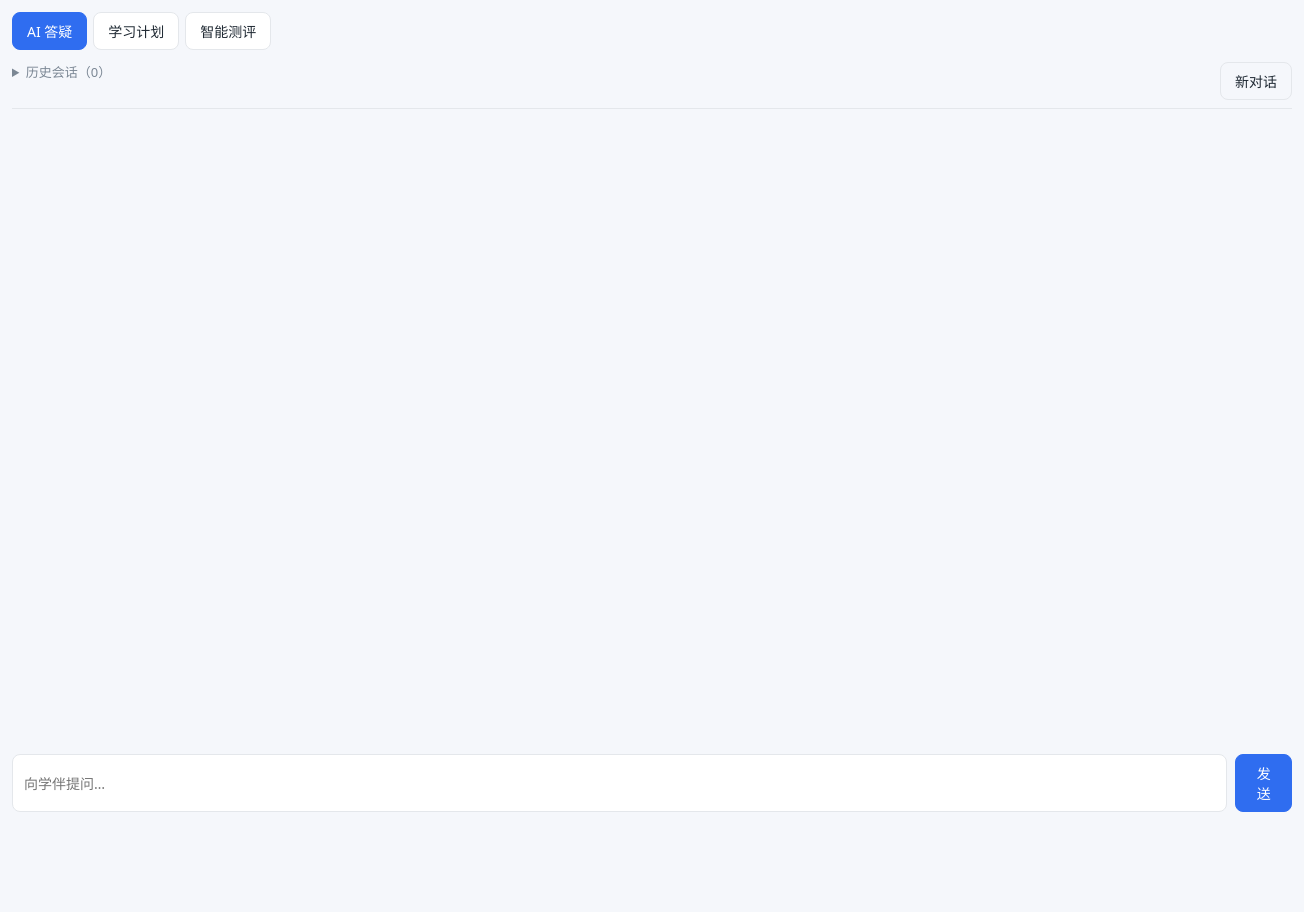
Test: Companion › handles unexpected chat promise rejections
Type "测试异常" into the field with placeholder "向学伴提问…" at (620, 783), box [12,754,1227,812]
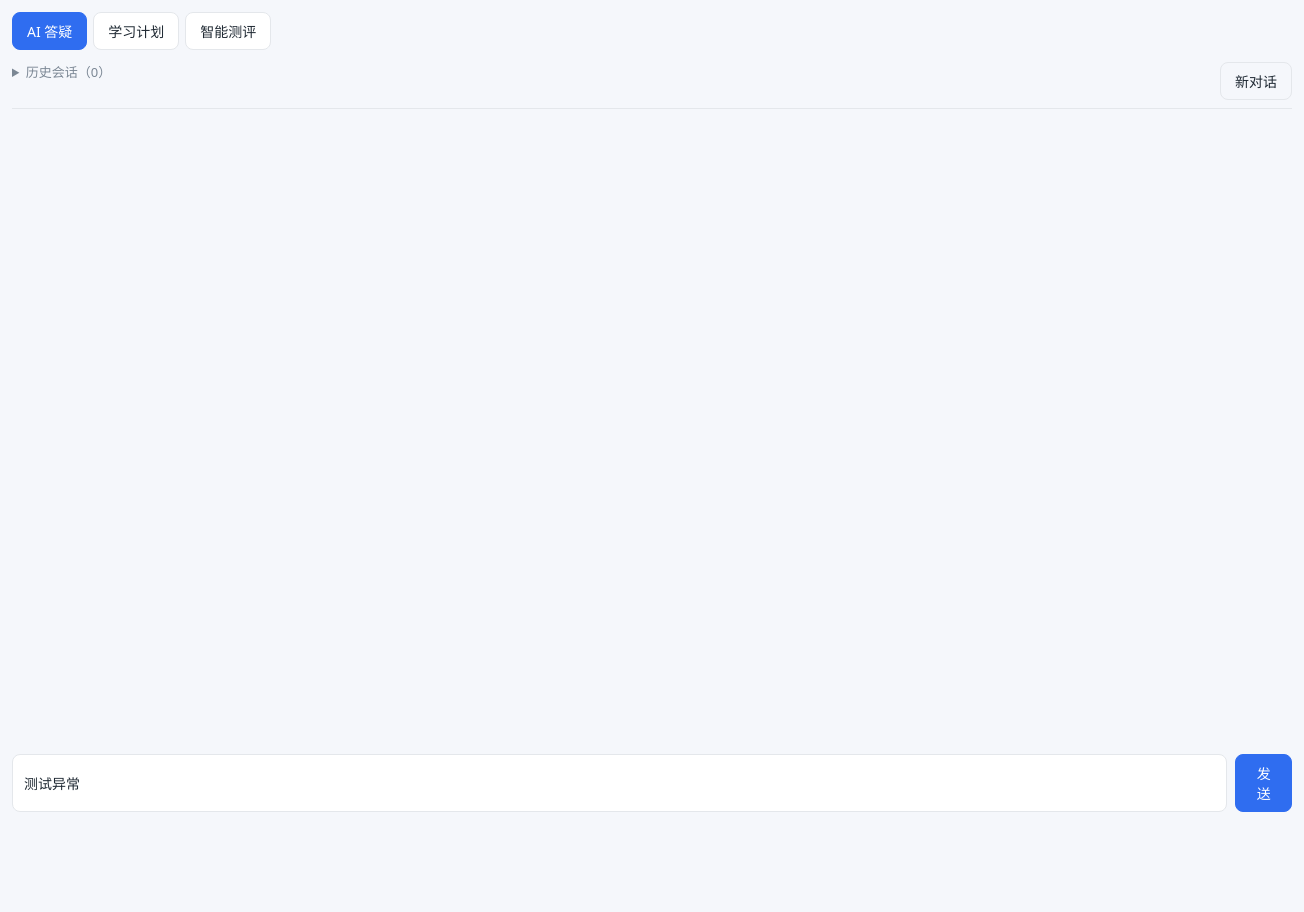
Click the button "发送" at (1264, 783), box [1235,754,1292,812]
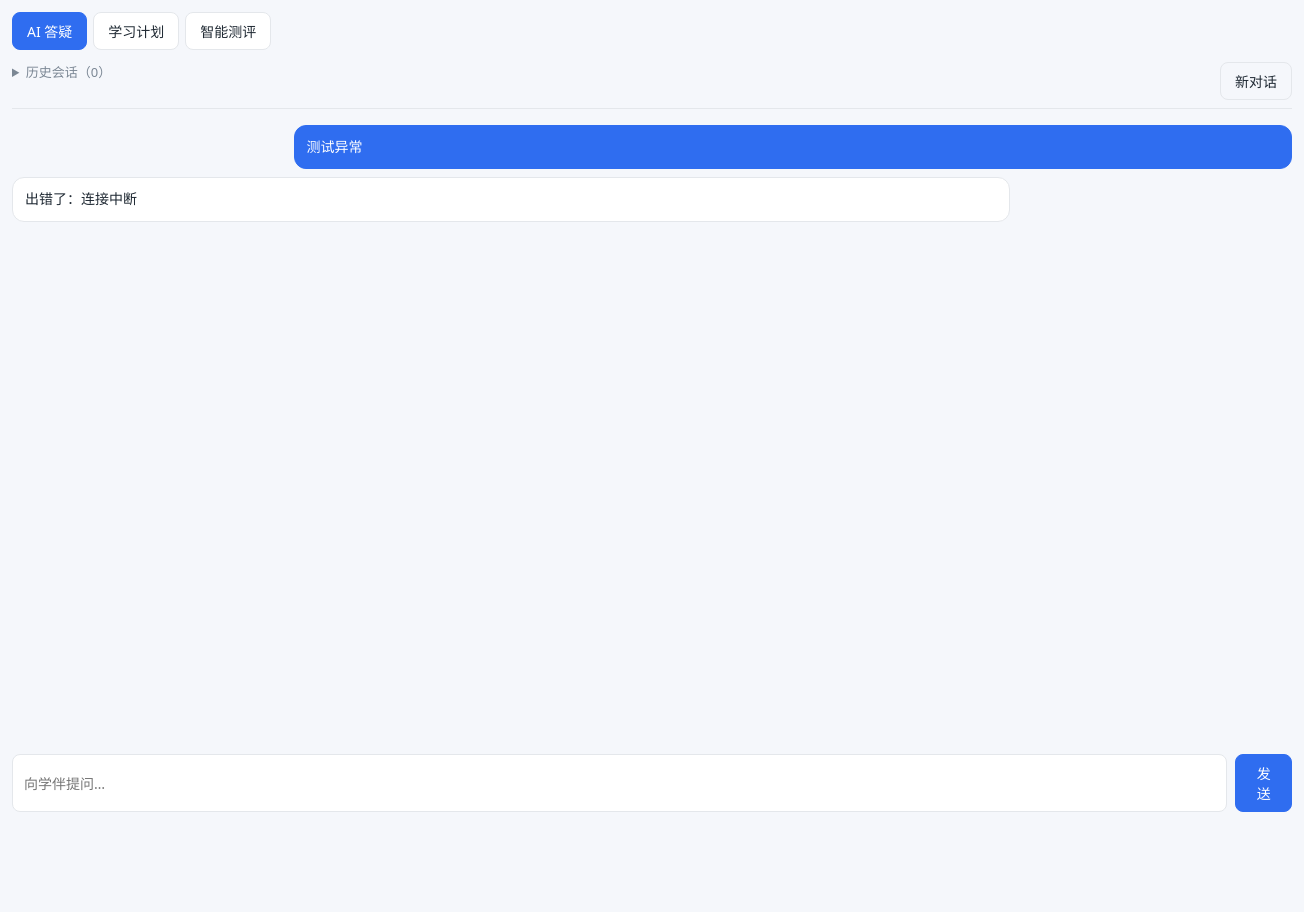
Check: the text "出错了：连接中断" is shown, box [25,189,137,208]
